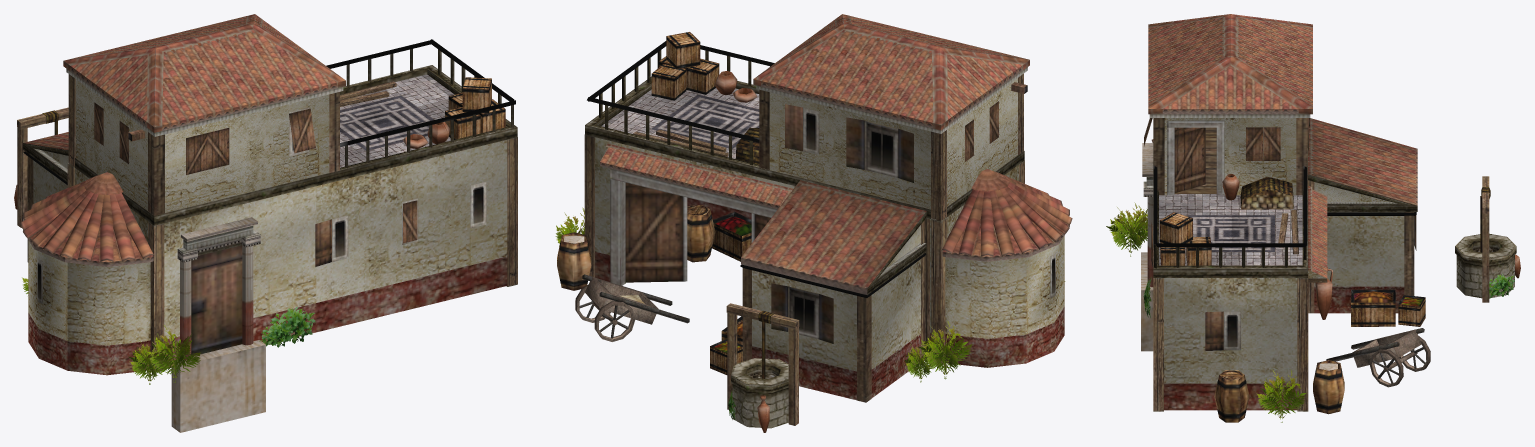
File: rome_farmstead.glb
3 views of the same model, side by side, from view 1: azimuth 30°, elevation 25°; view 2: azimuth 150°, elevation 25°; view 3: azimuth 270°, elevation 25° (orthographic). The views are drawn at different scales.
Parts seen in each view (by area): view 1: rome_farmstead_part0, rome_farmstead_part2; view 2: rome_farmstead_part0, rome_farmstead_part1, rome_farmstead_part2; view 3: rome_farmstead_part0, rome_farmstead_part2, rome_farmstead_part1.
Boxes of the visible parts, x1,y1,x2,y2 form: rome_farmstead_part0: [14, 14, 517, 432]; rome_farmstead_part2: [22, 277, 315, 384]; rome_farmstead_part0: [557, 14, 1072, 432]; rome_farmstead_part1: [575, 274, 689, 341]; rome_farmstead_part2: [555, 207, 1065, 420]; rome_farmstead_part0: [1141, 14, 1520, 422]; rome_farmstead_part2: [1106, 202, 1514, 422]; rome_farmstead_part1: [1326, 328, 1430, 387].
Size of the model in its own units: 3.2 by 2.12 by 2.61.
Materials: 3 (3 with a texture image).
